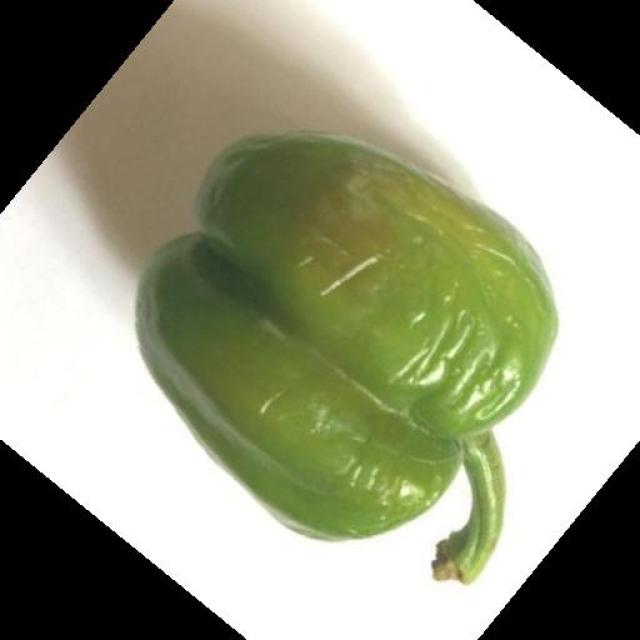Stale_Capsicum: (170, 100, 519, 554)
